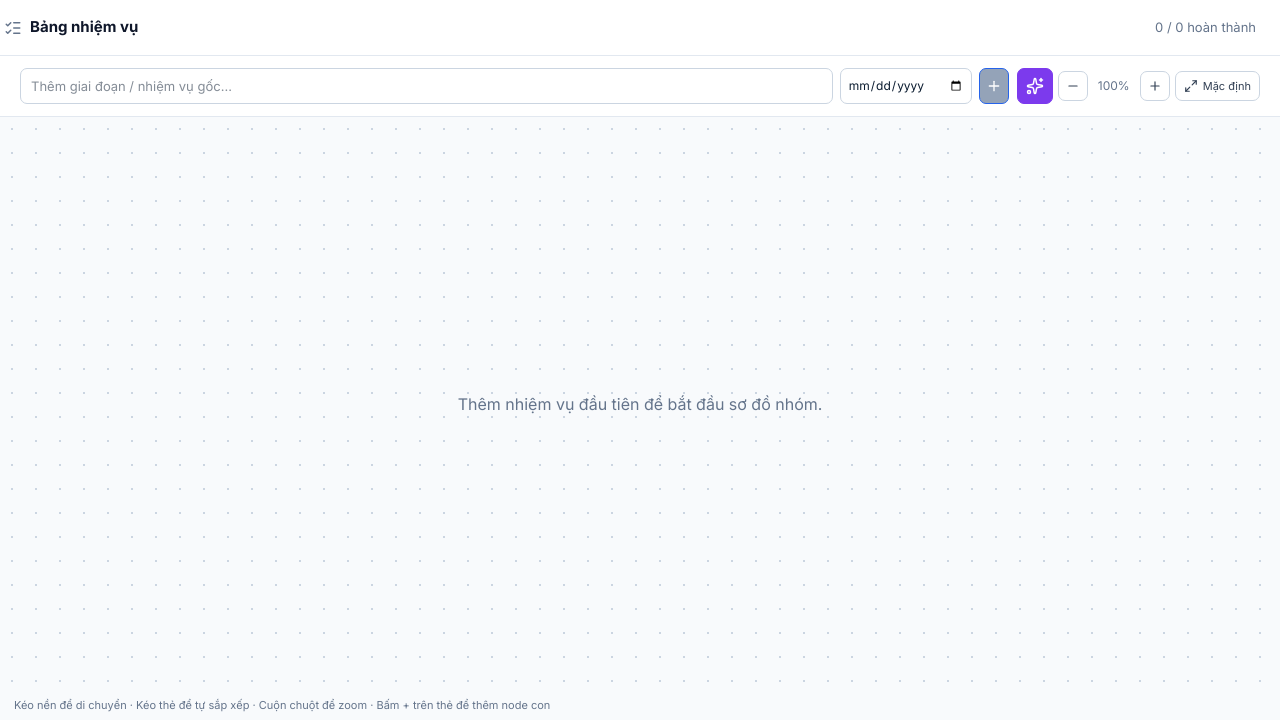
Test: group task deadline lifecycle › creates without a date, adds, changes and removes the deadline, including after reload
This screenshot has width=1280, height=720.
Later steps or results of the test are not shown.
Expected: the text "Thêm nhiệm vụ đầu tiên để bắt đầu sơ đồ nhóm." is shown, [458,394,822,414]
In the field named "Tên nhiệm vụ": coordinates (426, 86) [20,68,833,104], type "Nhiệm vụ gốc"
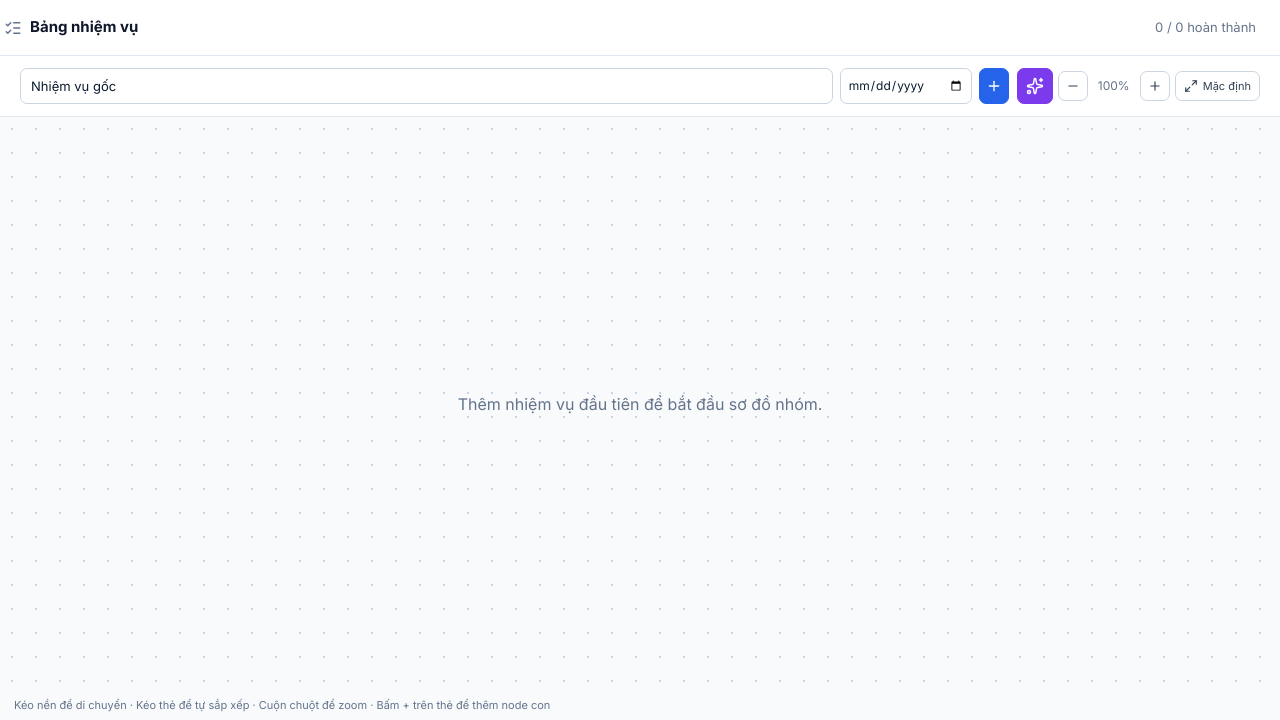
Click the button named "Thêm nhiệm vụ": coordinates (994, 86) [979,68,1009,104]
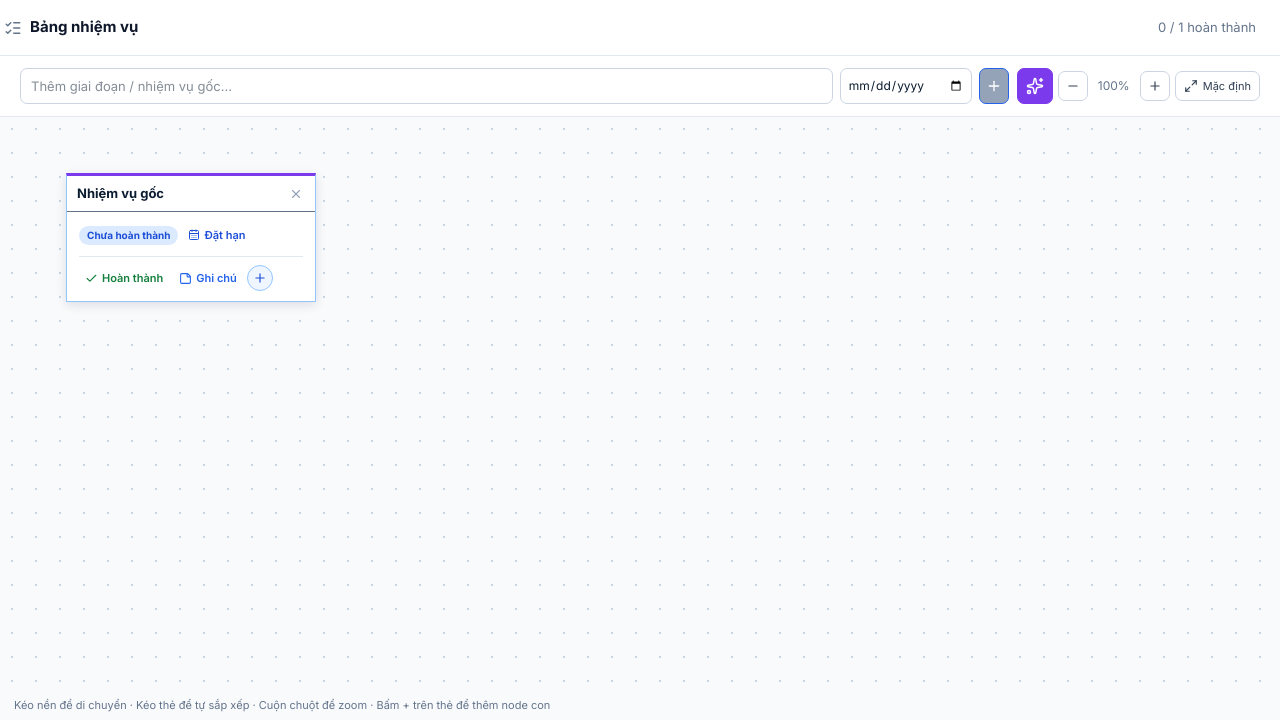
Click the button "Đặt hạn": coordinates (217, 235) [182,222,251,248]
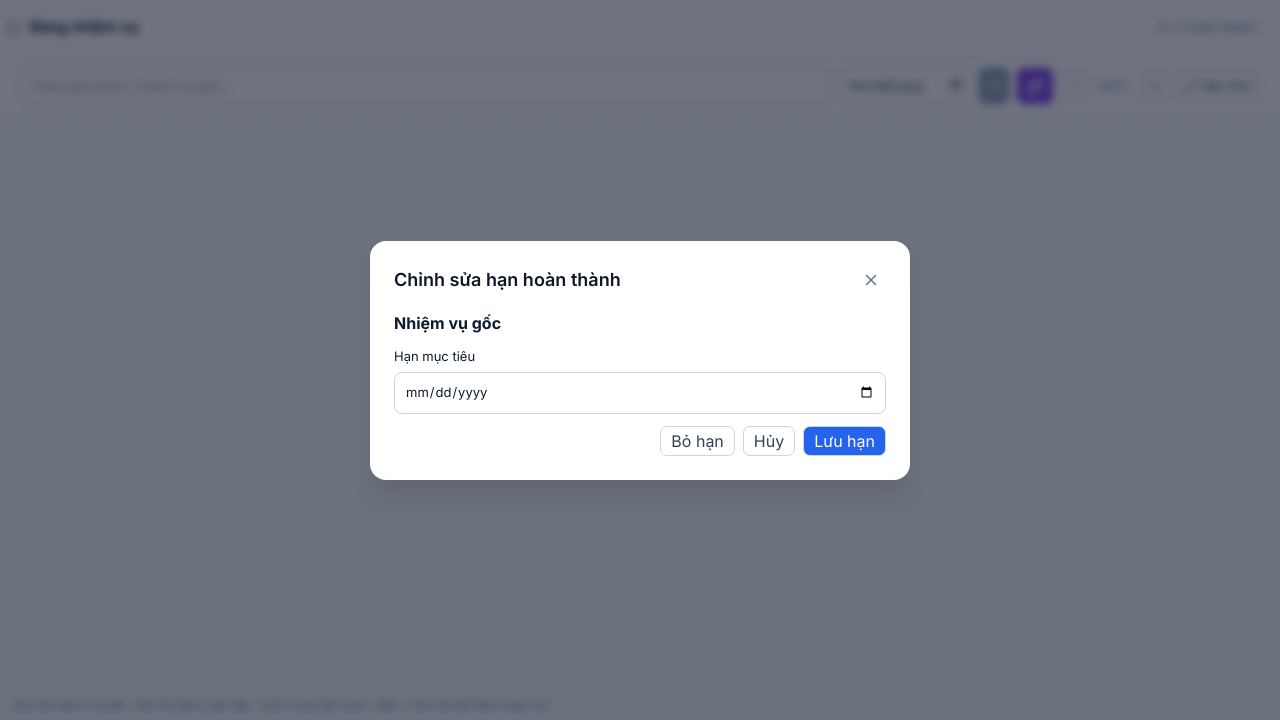
In the date field labelled "Hạn mục tiêu": coordinates (640, 393) [394,372,886,414], type "2090-12-01"
Click the button "Lưu hạn": coordinates (845, 440) [803,426,886,456]
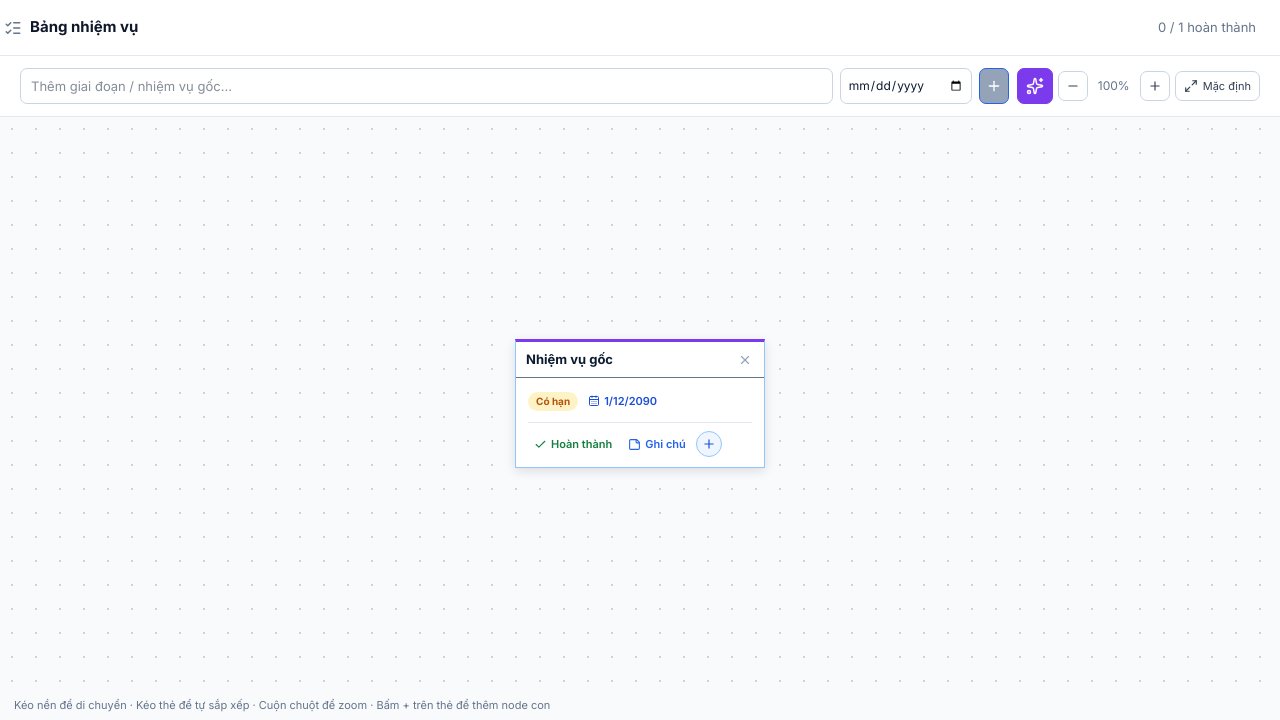
Result: the label labelled "Hạn mục tiêu" is gone
Click the button "1/12/2090": coordinates (623, 401) [582,388,663,414]
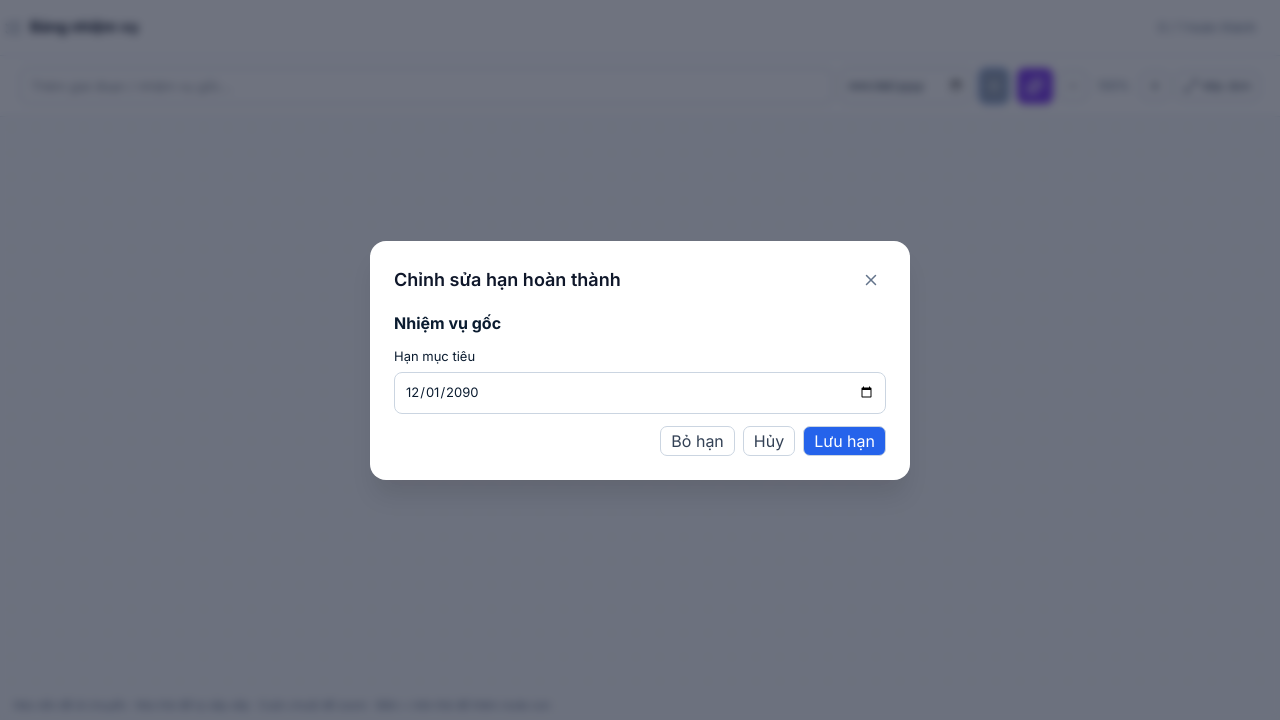
In the date field labelled "Hạn mục tiêu": coordinates (640, 393) [394,372,886,414], type "2090-12-02"
Click the button "Lưu hạn": coordinates (845, 440) [803,426,886,456]
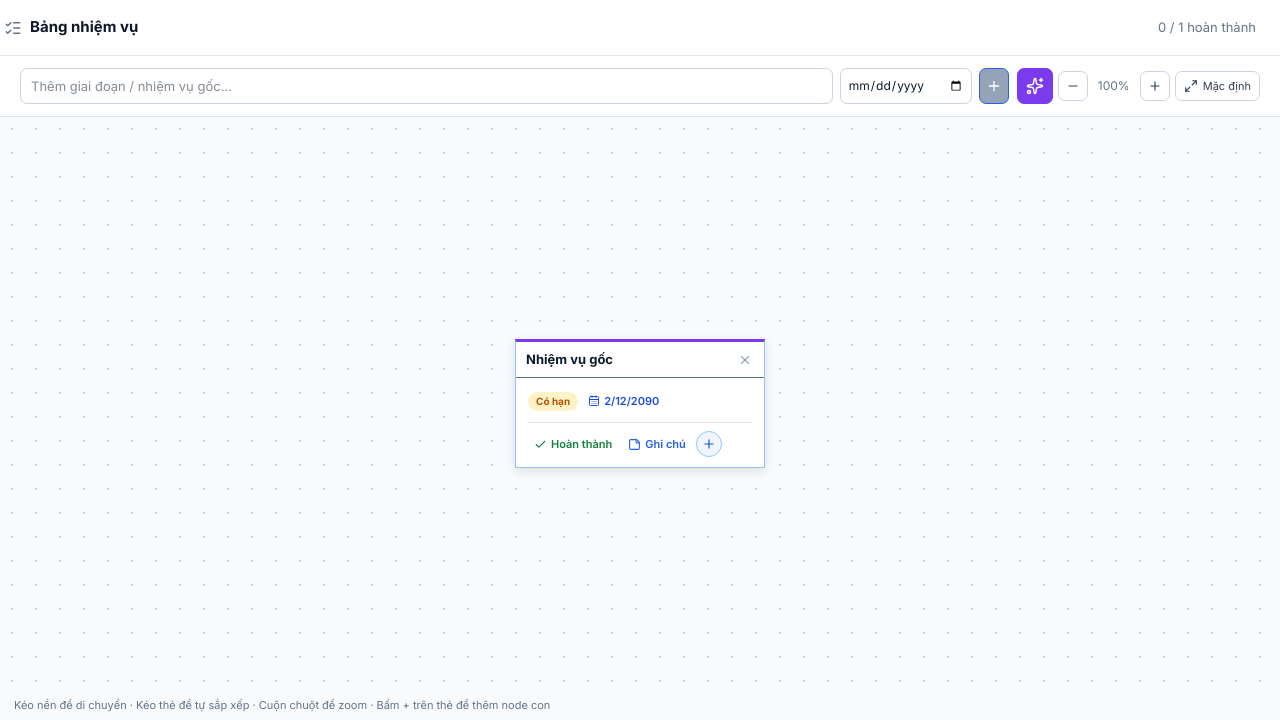
Result: the label labelled "Hạn mục tiêu" is gone
